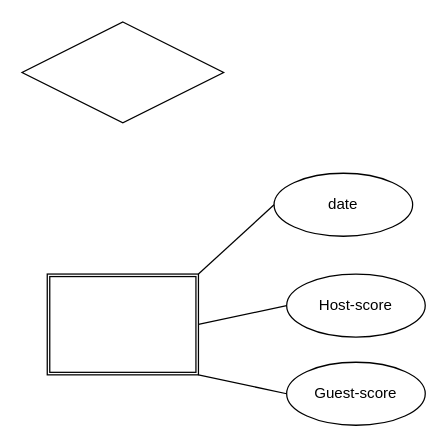
The diagram is 447 pixels wide and 447 high, and some of its shapes have lost their labels. The shapes that lost their labels are listed below. From the top down, each one's centre as x and y in pixels, then its label:
(x=122, y=72): role
(x=122, y=324): Match
